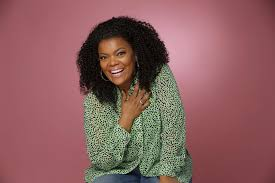black_female: (62, 15, 183, 106)
